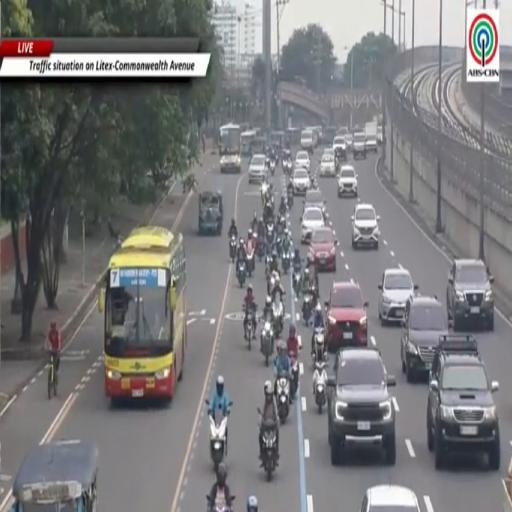bus: (98, 227, 187, 401), (219, 123, 241, 173), (241, 131, 257, 156)
car: (427, 334, 500, 471), (327, 347, 395, 465), (401, 296, 448, 381), (447, 260, 494, 331), (325, 282, 368, 351), (378, 268, 418, 325), (360, 485, 420, 511), (351, 203, 380, 249), (308, 228, 338, 271), (301, 206, 325, 244), (303, 188, 329, 218), (338, 166, 357, 197), (249, 154, 266, 183), (292, 168, 310, 195), (319, 155, 336, 177), (352, 132, 366, 158), (333, 136, 347, 161), (300, 130, 315, 153), (294, 151, 310, 171), (366, 134, 378, 153), (345, 134, 353, 151), (377, 125, 383, 145), (323, 148, 334, 156)
jeepney: (10, 441, 98, 511), (198, 191, 223, 235), (241, 131, 256, 156)
motorcycle: (206, 399, 227, 471), (258, 408, 278, 481), (313, 355, 327, 413), (276, 376, 290, 424), (261, 322, 274, 366), (246, 306, 257, 350), (312, 328, 325, 364), (289, 354, 299, 398), (207, 495, 232, 511), (273, 300, 284, 335), (302, 294, 312, 324), (237, 261, 247, 287), (247, 246, 255, 277), (292, 269, 301, 296), (229, 236, 237, 262), (267, 272, 275, 296), (256, 237, 264, 261), (282, 251, 290, 274), (266, 220, 274, 242), (265, 253, 271, 281), (261, 182, 267, 205), (278, 214, 286, 231), (283, 158, 291, 175), (276, 235, 282, 257), (267, 224, 273, 246), (251, 217, 258, 234), (287, 190, 293, 209), (270, 160, 275, 175)
truck: (365, 121, 378, 153)
